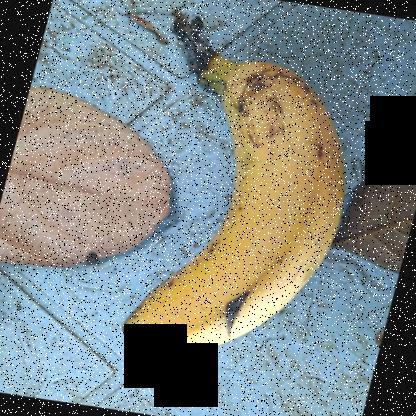ripe: (116, 28, 374, 357)
